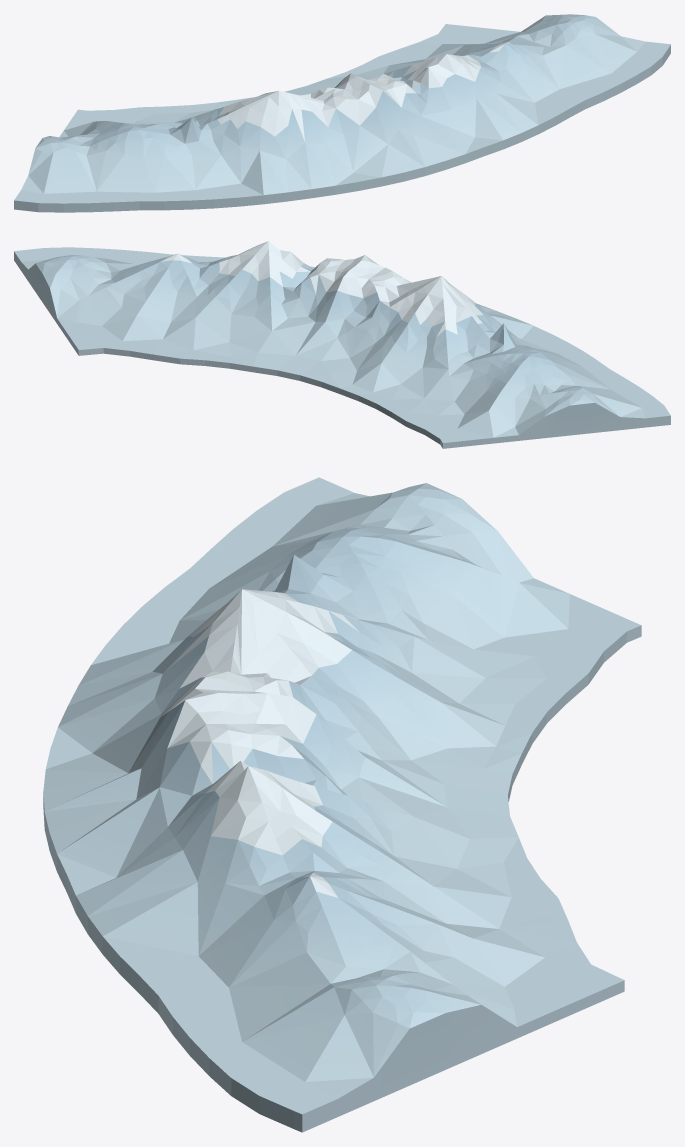
File: mountains_menu_far.fbx
3 renders of one model, top to bottom at view 1: azimuth 30°, elevation 25°; view 2: azimuth 150°, elevation 25°; view 3: azimuth 270°, elevation 25°, orthographic. The views are drawn at different scales.
Visible parts, largest first — view 1: mountains_menu_far; view 2: mountains_menu_far; view 3: mountains_menu_far.
Boxes of the visible parts, left/top/right/bottom form: mountains_menu_far: left=14, top=14, right=670, bottom=212; mountains_menu_far: left=14, top=241, right=670, bottom=448; mountains_menu_far: left=43, top=477, right=641, bottom=1132.
Size of the model in its own units: 601 by 64.24 by 238.
